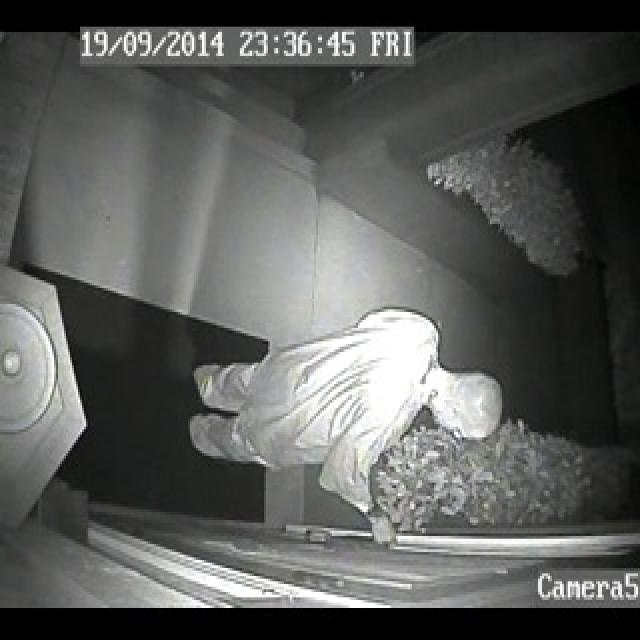thief: (184, 303, 506, 529)
